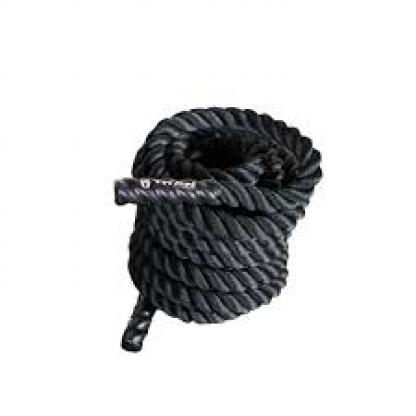Rope: (112, 103, 323, 358)
